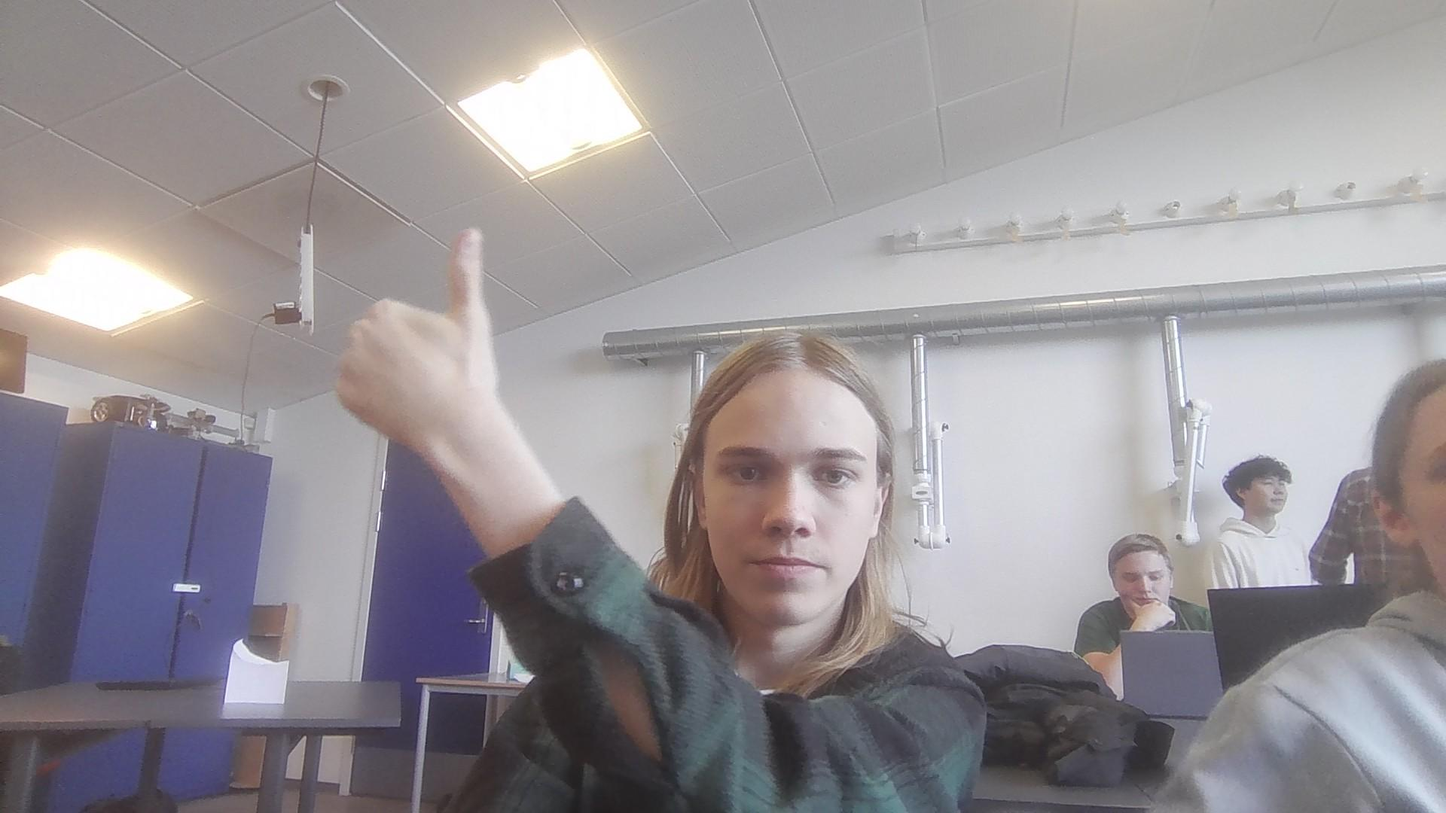thumbs up: (329, 219, 508, 456)
